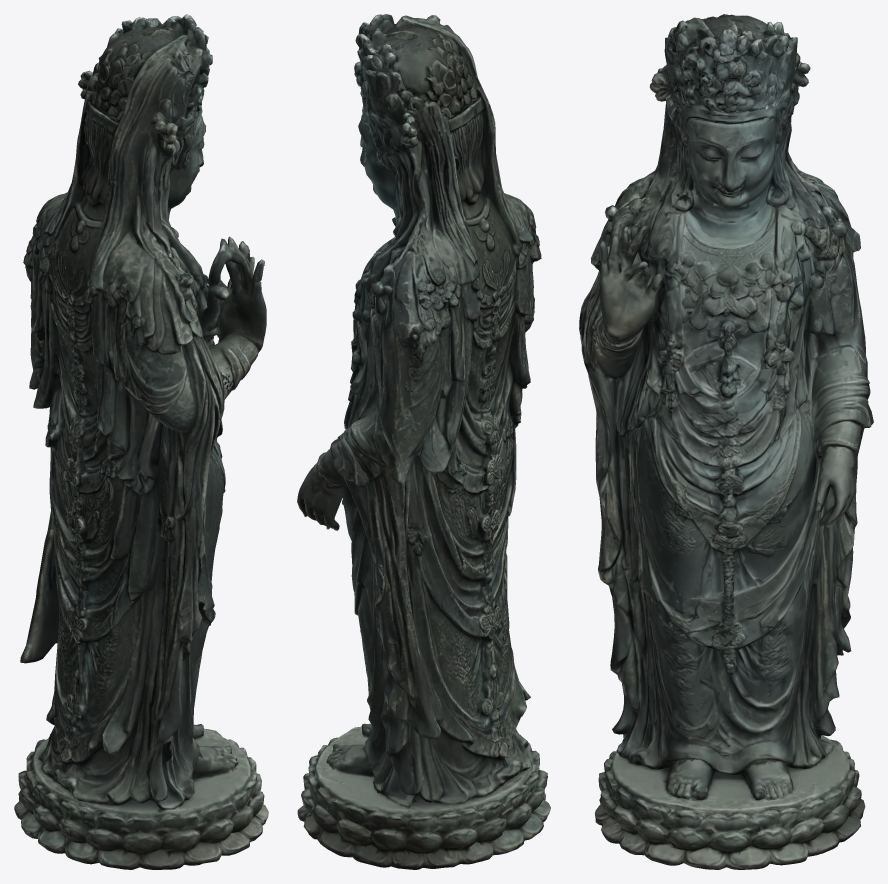
Rendered from liquan-bodhisattva-web-mobile.glb.
3 renders of one model, left to right at view 1: azimuth 30°, elevation 25°; view 2: azimuth 150°, elevation 25°; view 3: azimuth 270°, elevation 25°, orthographic. The views are drawn at different scales.
Parts seen in each view (by area): view 1: tripo_node_08ed1d72-0c50-4bc3-9733-38ded99db233; view 2: tripo_node_08ed1d72-0c50-4bc3-9733-38ded99db233; view 3: tripo_node_08ed1d72-0c50-4bc3-9733-38ded99db233.
Part boxes in pixels (x1=…): tripo_node_08ed1d72-0c50-4bc3-9733-38ded99db233: x1=14, y1=14, x2=268, y2=869; tripo_node_08ed1d72-0c50-4bc3-9733-38ded99db233: x1=297, y1=14, x2=550, y2=869; tripo_node_08ed1d72-0c50-4bc3-9733-38ded99db233: x1=579, y1=14, x2=873, y2=869.
Bounding box in the file's own units: 0.2767 × 0.9787 × 0.3223.
Materials: 1 (1 with a texture image).
